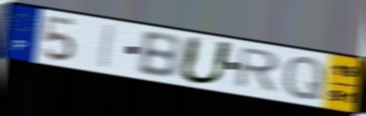5: (40, 13, 78, 63)
B: (136, 30, 184, 80)
I: (97, 23, 117, 71)
Q: (281, 54, 328, 102)
R: (232, 46, 284, 95)
U: (176, 34, 237, 86)
